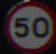Speed limit: (6, 5, 52, 47)
